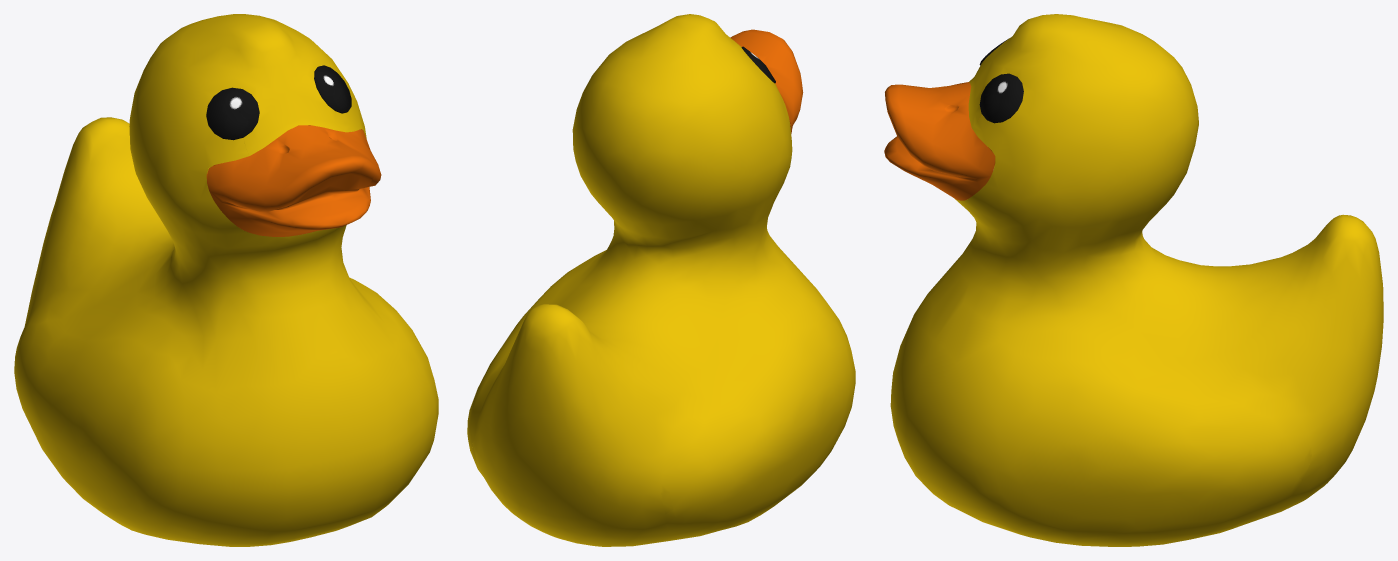
The model's file is duck.fbx.
The picture shows the model from 3 angles, left to right: view 1: azimuth 30°, elevation 25°; view 2: azimuth 150°, elevation 25°; view 3: azimuth 270°, elevation 25°; orthographic projection. The views are drawn at different scales.
Parts seen in each view (by area): view 1: Object_2; view 2: Object_2; view 3: Object_2.
Boxes of the visible parts, x1=… form: Object_2: x1=14, y1=14, x2=438, y2=546; Object_2: x1=467, y1=14, x2=855, y2=546; Object_2: x1=884, y1=14, x2=1383, y2=546.
Bounding box in the file's own units: 72.55 × 105 × 99.51.
1 material, 1 textured.
